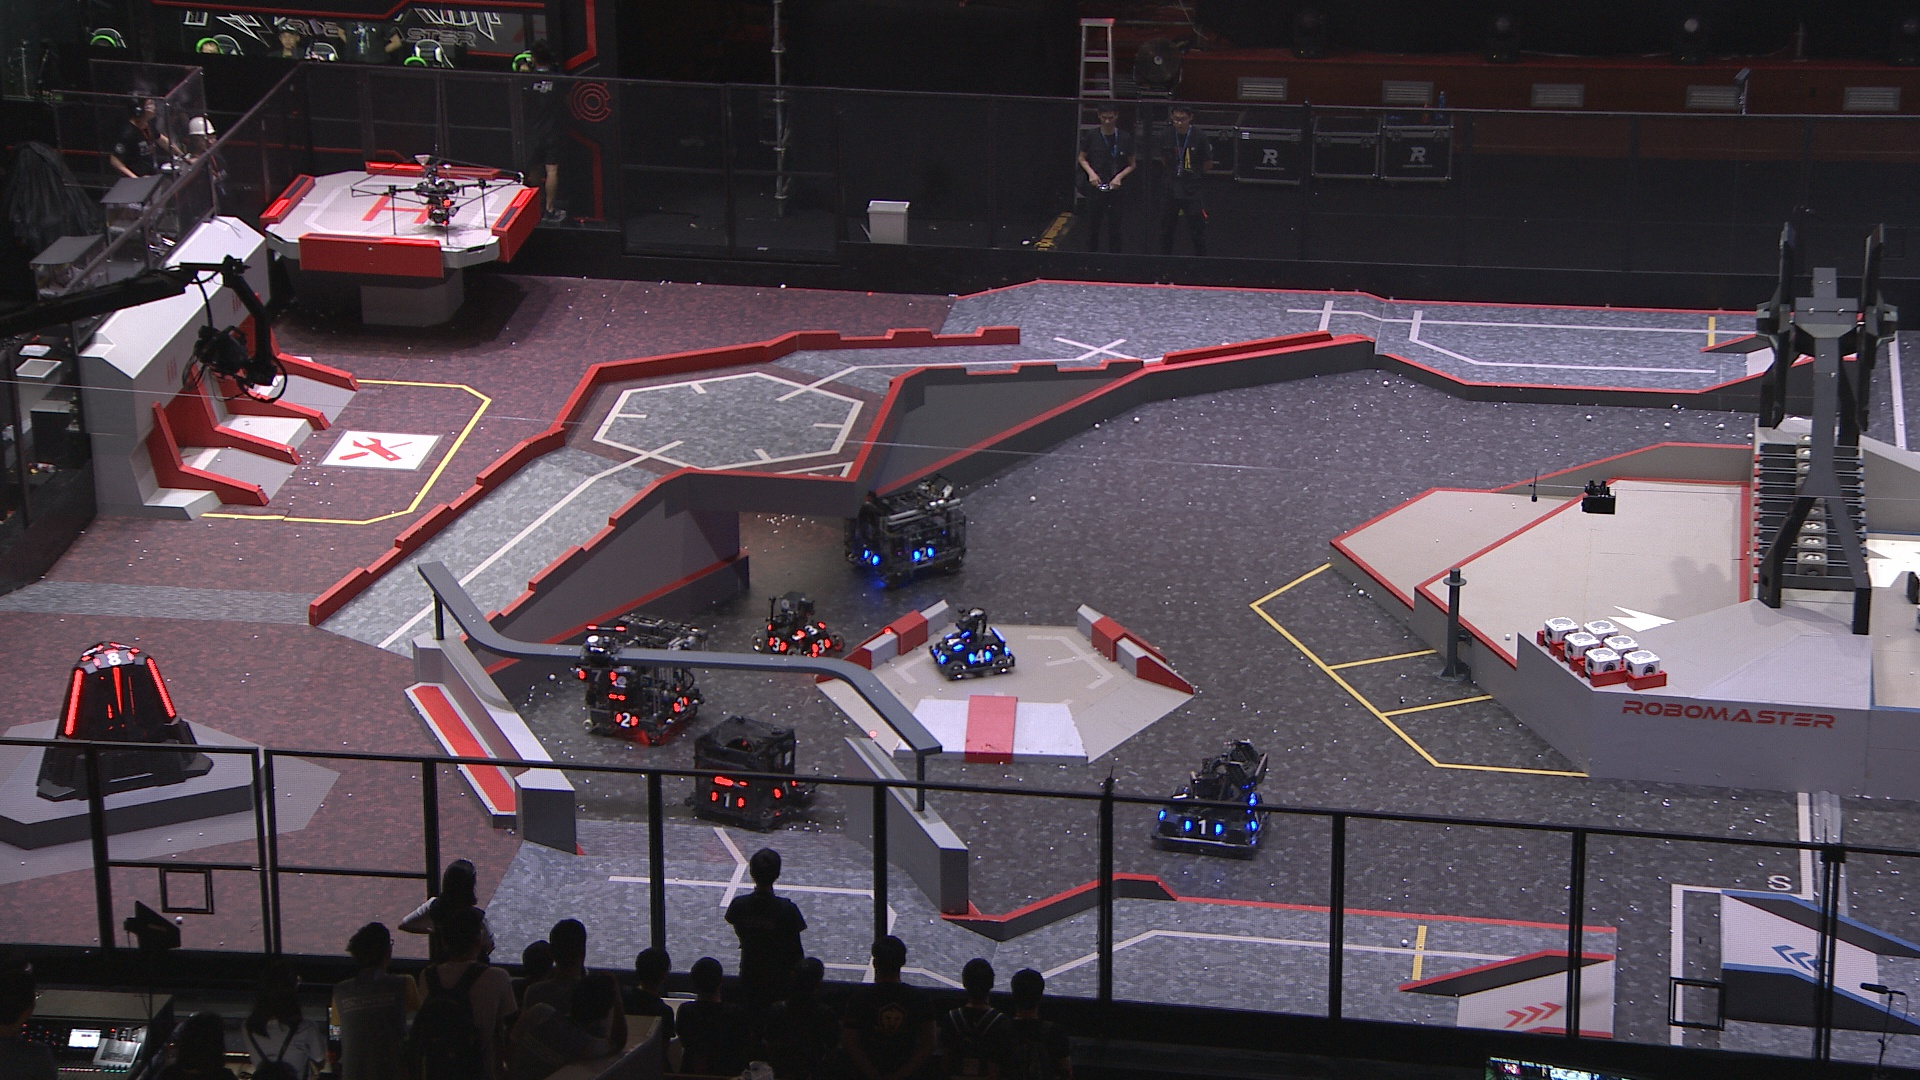armor: (144, 655, 178, 719), (65, 669, 86, 732), (709, 789, 744, 811), (574, 666, 615, 684), (98, 651, 135, 670), (112, 666, 125, 716), (1183, 818, 1221, 835), (798, 622, 825, 640), (775, 778, 800, 796), (909, 547, 939, 562), (82, 642, 107, 659), (968, 647, 992, 665), (765, 637, 789, 654), (613, 711, 637, 727), (944, 632, 963, 651), (1250, 807, 1267, 828), (812, 636, 829, 657), (671, 694, 690, 712), (931, 646, 948, 665), (1174, 789, 1193, 804), (858, 549, 880, 560)
base: (32, 640, 214, 799)
car: (575, 616, 707, 746), (1150, 738, 1273, 858), (844, 475, 971, 588), (692, 717, 816, 832), (752, 585, 844, 665), (924, 607, 1015, 684)
watcher: (566, 624, 632, 698)
